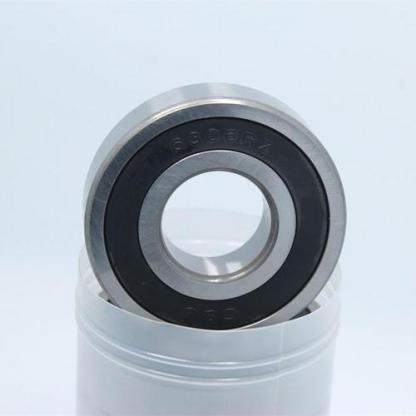FOD: (79, 77, 353, 332)
